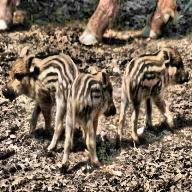boar: (112, 39, 188, 129), (5, 40, 62, 122), (70, 71, 112, 166)
